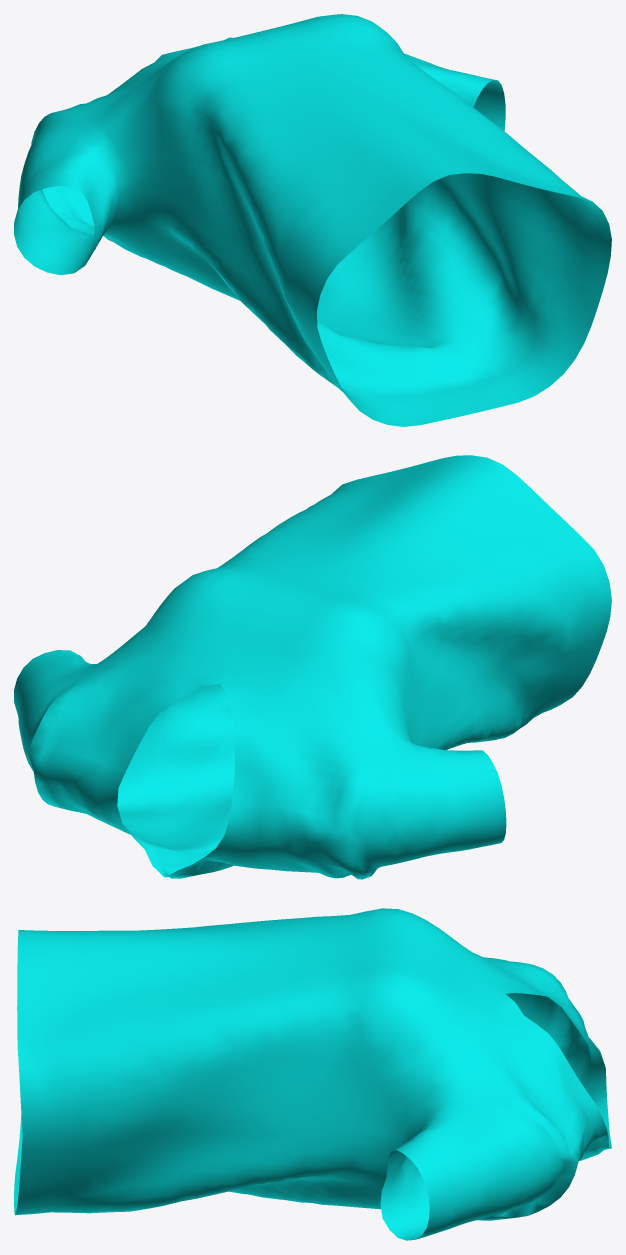
Rendered from meshh.fbx.
3 views of the same model, one above another, from view 1: azimuth 30°, elevation 25°; view 2: azimuth 150°, elevation 25°; view 3: azimuth 270°, elevation 25° (orthographic).
Visible parts, largest first — view 1: tee_03:Mesh; view 2: tee_03:Mesh; view 3: tee_03:Mesh.
Part boxes in pixels (x1,y1,x2,y2): tee_03:Mesh: [14, 14, 611, 426]; tee_03:Mesh: [14, 455, 611, 879]; tee_03:Mesh: [14, 908, 611, 1240].
Bounding box in the file's own units: 8.53 × 4.03 × 9.07.
